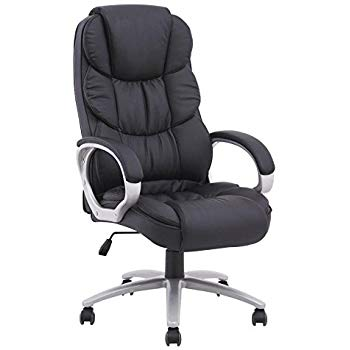chairs: (67, 4, 277, 349)
